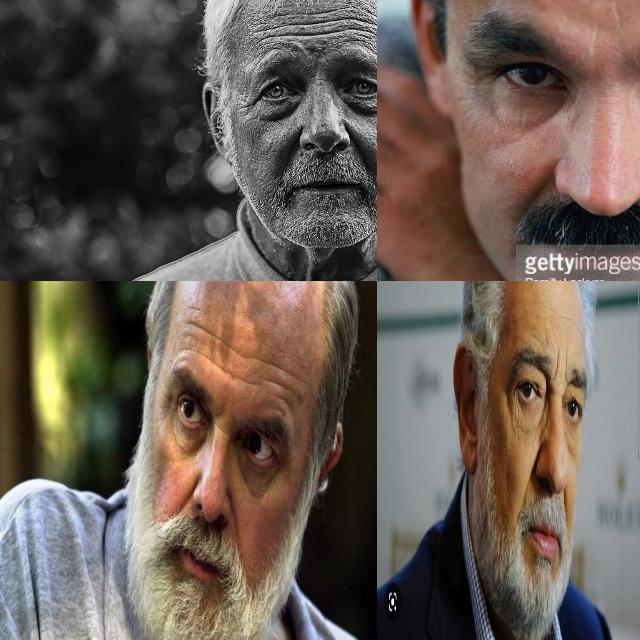crows_feet: (236, 92, 262, 110), (507, 380, 517, 410)
forehead: (344, 8, 374, 42), (258, 24, 296, 48), (230, 344, 264, 370), (306, 15, 338, 41), (232, 366, 258, 398), (268, 374, 292, 408), (188, 312, 215, 342), (201, 348, 225, 377), (556, 303, 573, 327), (266, 352, 282, 376)
frown_line: (552, 348, 560, 378), (216, 421, 229, 437), (563, 350, 569, 382)
gummy_smile: (278, 134, 298, 168), (348, 132, 368, 162), (523, 458, 533, 501), (180, 478, 193, 508), (562, 487, 568, 512)
